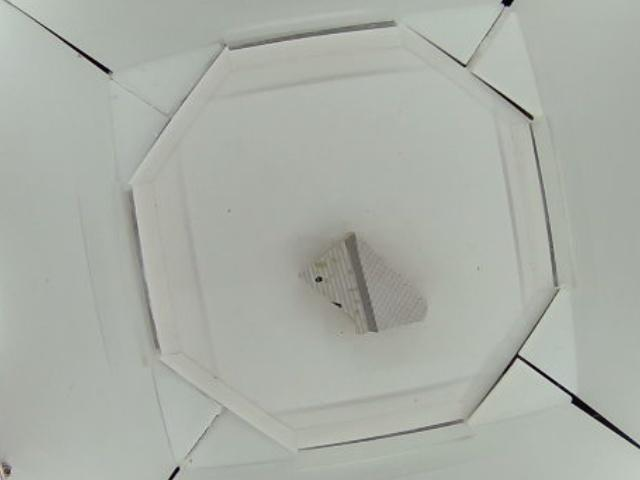China: (300, 231, 426, 334)
